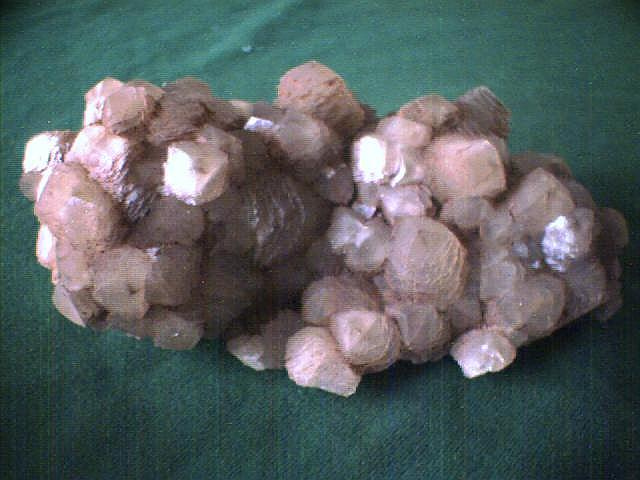calcite: (20, 61, 630, 396)
